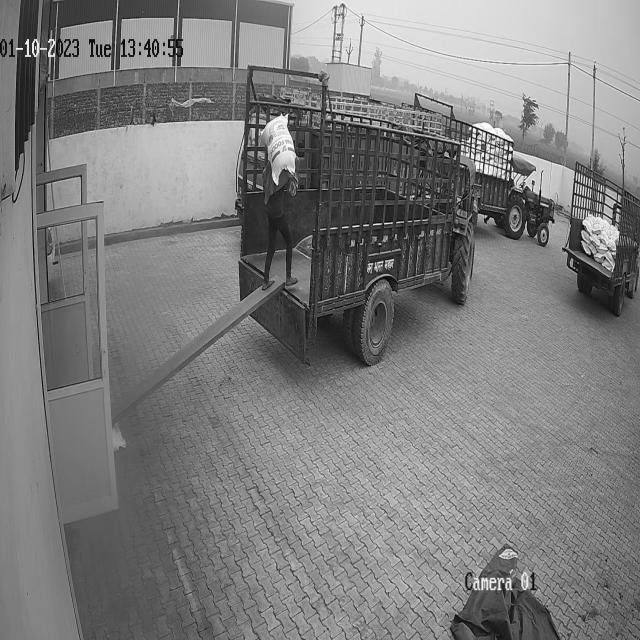sack: (260, 113, 296, 186)
